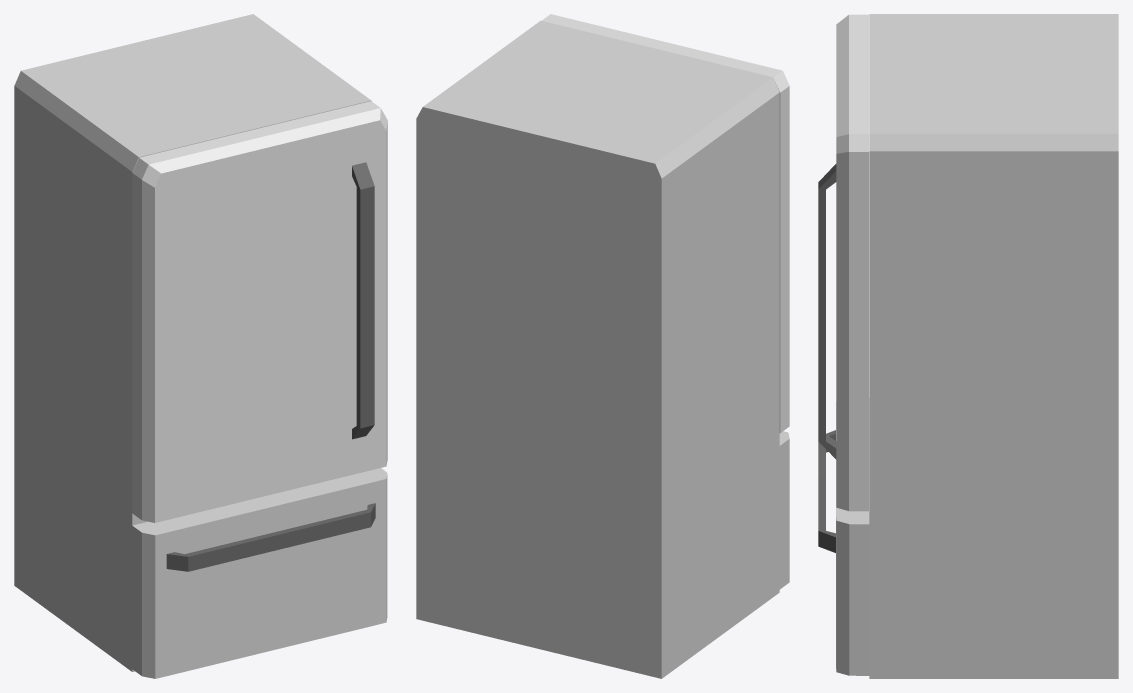
Rendered from Kitchen Fridge.glb.
3 renders of one model, left to right at view 1: azimuth 30°, elevation 25°; view 2: azimuth 150°, elevation 25°; view 3: azimuth 270°, elevation 25°, orthographic. The views are drawn at different scales.
Parts seen in each view (by area): view 1: Fridge; view 2: Fridge; view 3: Fridge.
Part boxes in pixels (x1,y1,x2,y2): Fridge: [14, 14, 387, 678]; Fridge: [416, 14, 789, 678]; Fridge: [818, 14, 1118, 678].
Bounding box in the file's own units: 0.9522 × 1.9 × 0.9541.
Materials: 1 (1 with a texture image).
